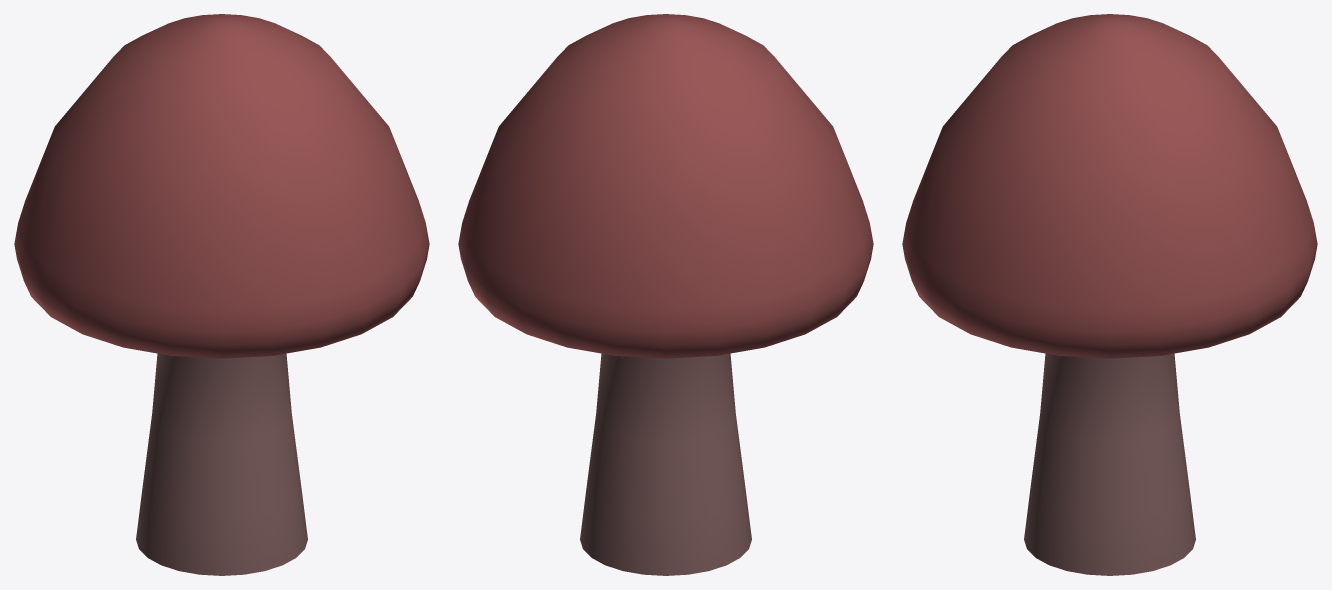
File: HongoPeque3_Mod.fbx
3 renders of one model, left to right at view 1: azimuth 30°, elevation 25°; view 2: azimuth 150°, elevation 25°; view 3: azimuth 270°, elevation 25°, orthographic.
Visible parts, largest first — view 1: HongoPeque3_Mod; view 2: HongoPeque3_Mod; view 3: HongoPeque3_Mod.
Boxes of the visible parts, x1,y1,x2,y2 form: HongoPeque3_Mod: (14, 14, 429, 575); HongoPeque3_Mod: (458, 14, 873, 575); HongoPeque3_Mod: (902, 14, 1317, 575).
Bounding box in the file's own units: 179 × 246 × 179.
